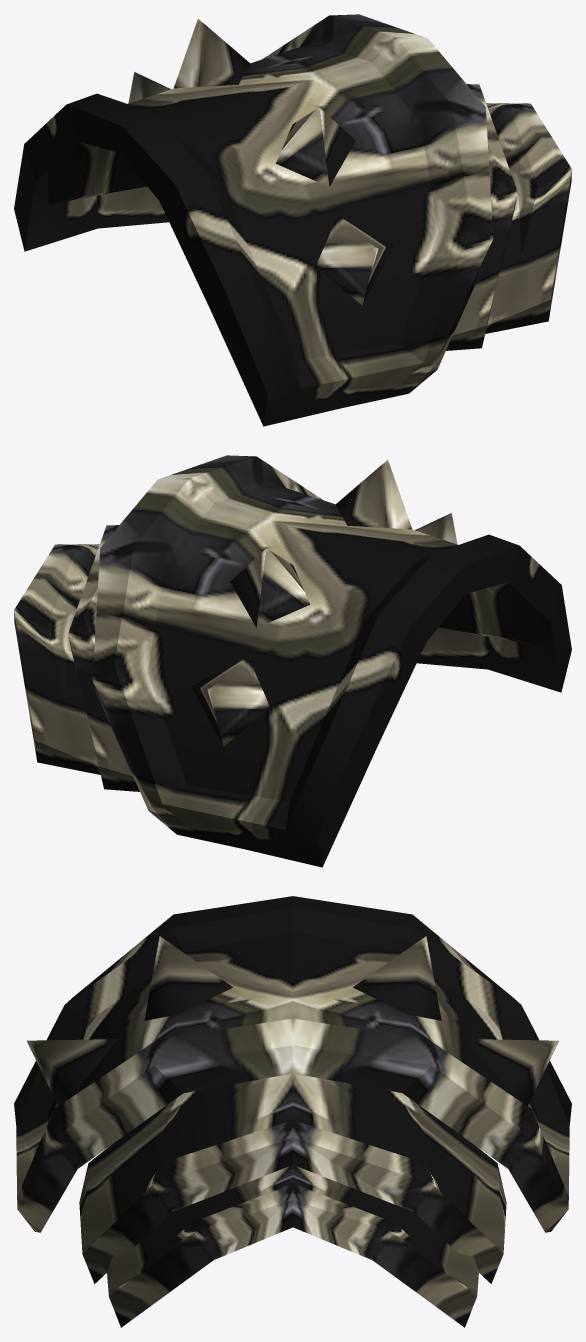
File: chain_shoulder_drop.fbx
3 renders of one model, top to bottom at view 1: azimuth 30°, elevation 25°; view 2: azimuth 150°, elevation 25°; view 3: azimuth 270°, elevation 25°, orthographic. The views are drawn at different scales.
Visible parts, largest first — view 1: Chain_Set/shoulders; view 2: Chain_Set/shoulders; view 3: Chain_Set/shoulders.
Part boxes in pixels (x1,y1,x2,y2): Chain_Set/shoulders: (14,14,571,426); Chain_Set/shoulders: (14,455,571,867); Chain_Set/shoulders: (14,896,571,1327).
Bounding box in the file's own units: 0.6935 × 0.3986 × 0.7243.
